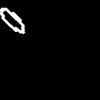chain: (0, 8, 24, 33)
